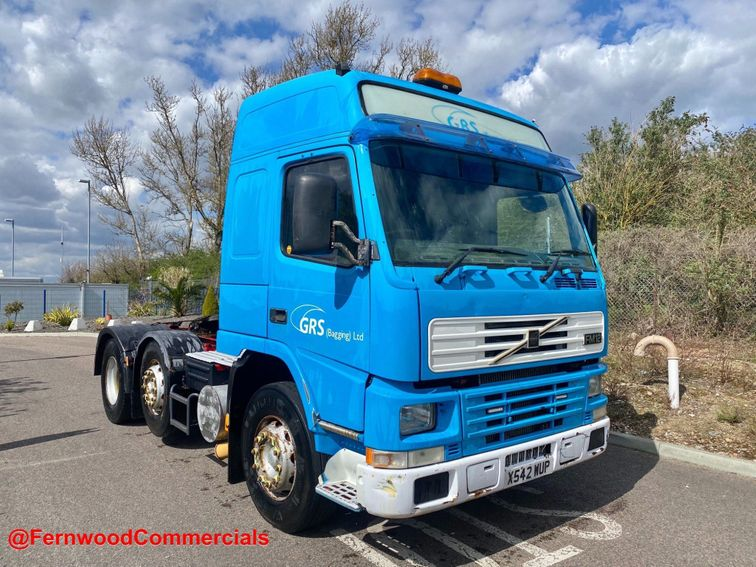Semi: (92, 61, 610, 534)
